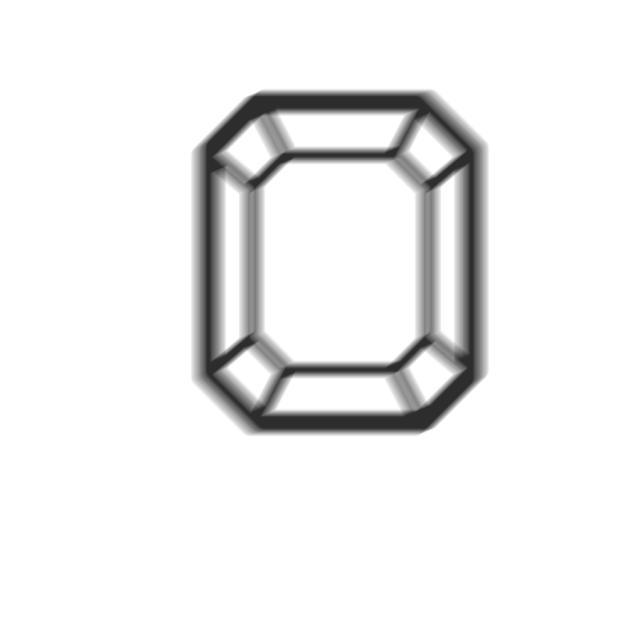emerald: (185, 86, 495, 445)
